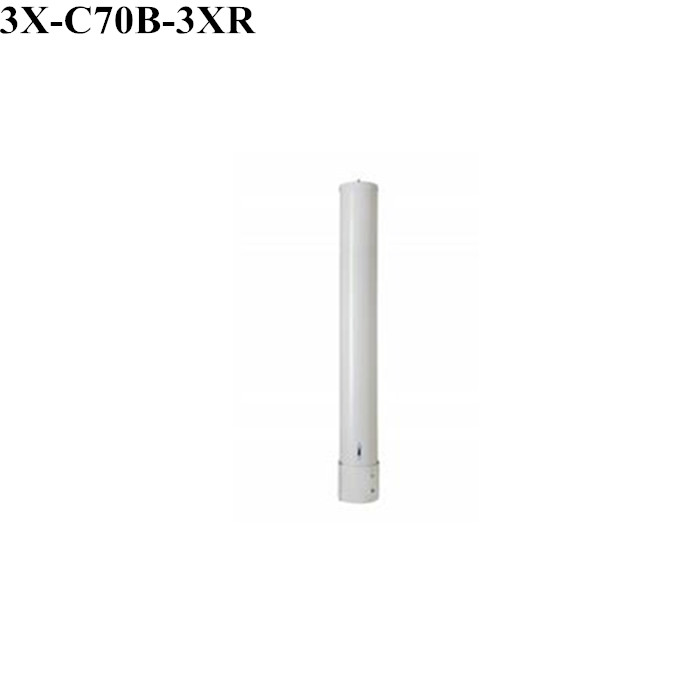sa: (322, 155, 403, 528)
